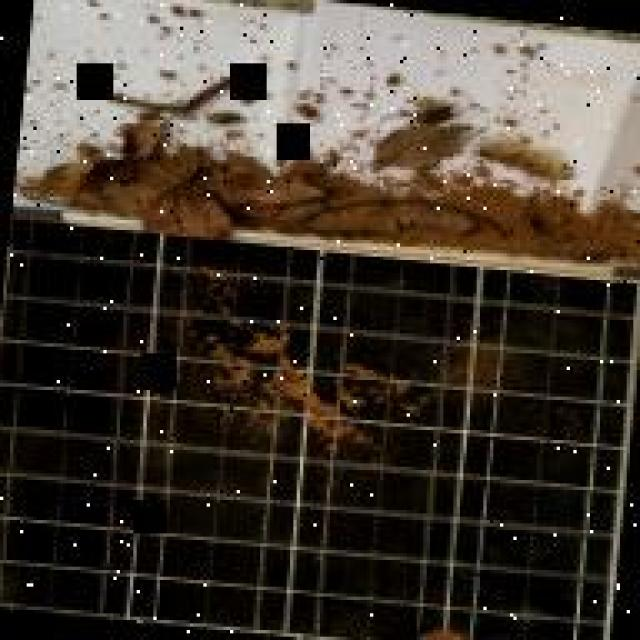dust-solar-panel: (0, 224, 639, 640)
